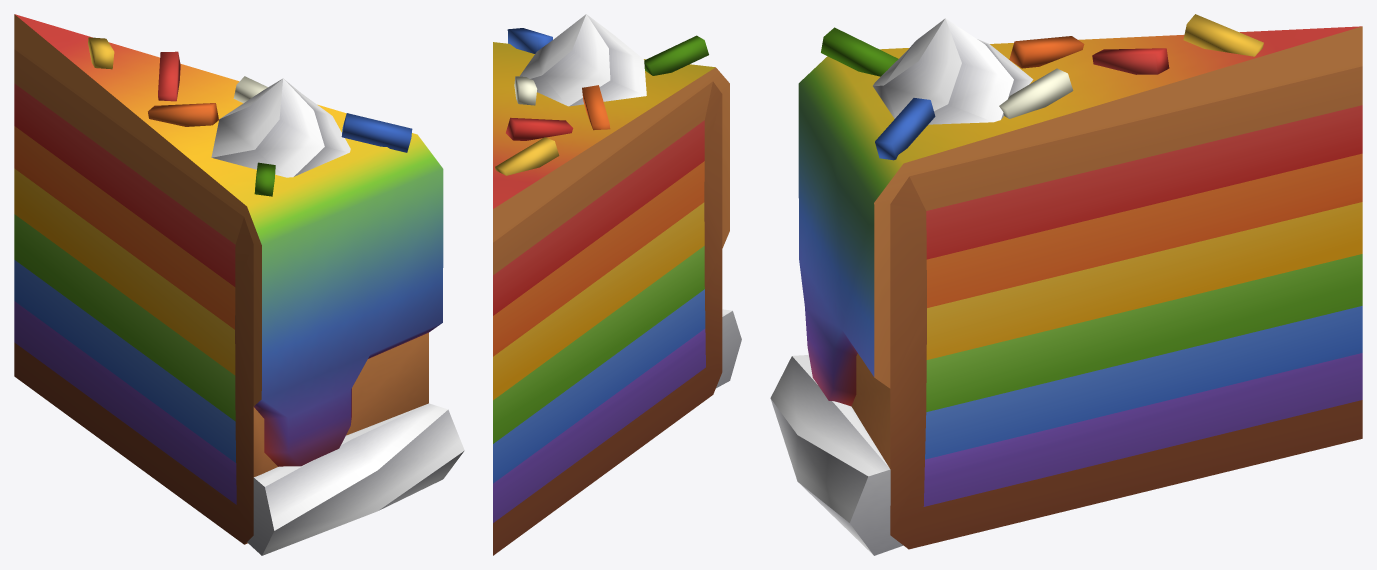
Rendered from m_RainbowCake01_Slice02.fbx.
The picture shows the model from 3 angles, left to right: view 1: azimuth 30°, elevation 25°; view 2: azimuth 150°, elevation 25°; view 3: azimuth 270°, elevation 25°; orthographic projection. The views are drawn at different scales.
Parts seen in each view (by area): view 1: m_RainbowCake01_Slice02; view 2: m_RainbowCake01_Slice02; view 3: m_RainbowCake01_Slice02.
Boxes of the visible parts, box(x1,y1,x2,y2) form: m_RainbowCake01_Slice02: box(14, 14, 464, 555); m_RainbowCake01_Slice02: box(493, 14, 741, 555); m_RainbowCake01_Slice02: box(770, 14, 1362, 555).
Bounding box in the file's own units: 7.6 × 13.31 × 15.21.
